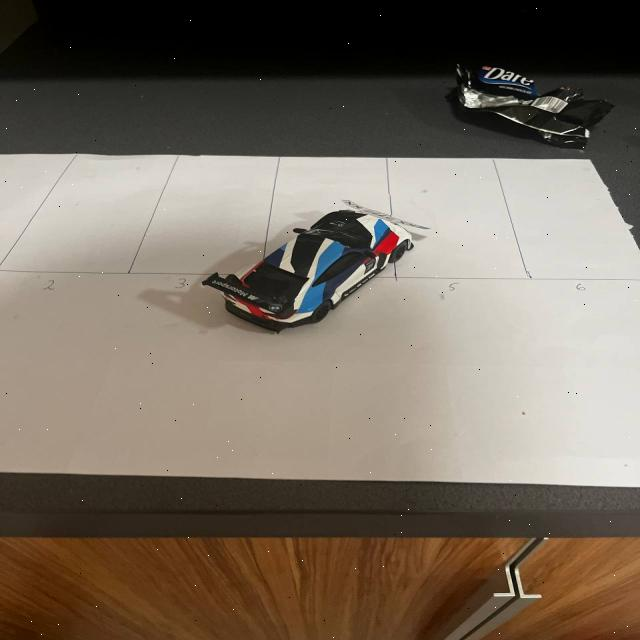KX 7777 KX: (338, 195, 441, 235)
